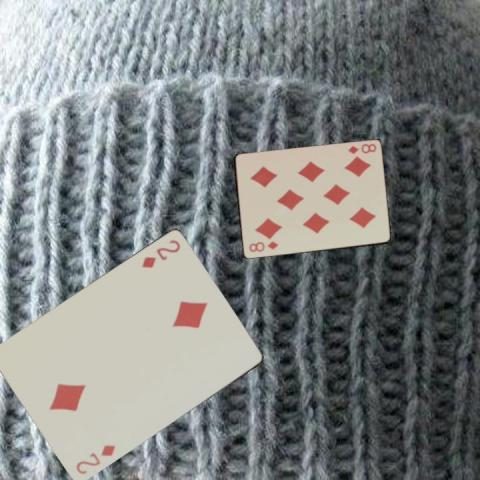2d: (72, 442, 116, 476), (139, 237, 182, 270)
8d: (246, 239, 279, 253), (346, 141, 378, 155)
